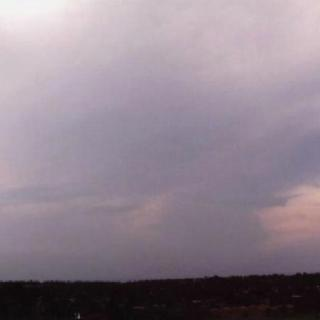Stratus: (0, 0, 320, 260)
